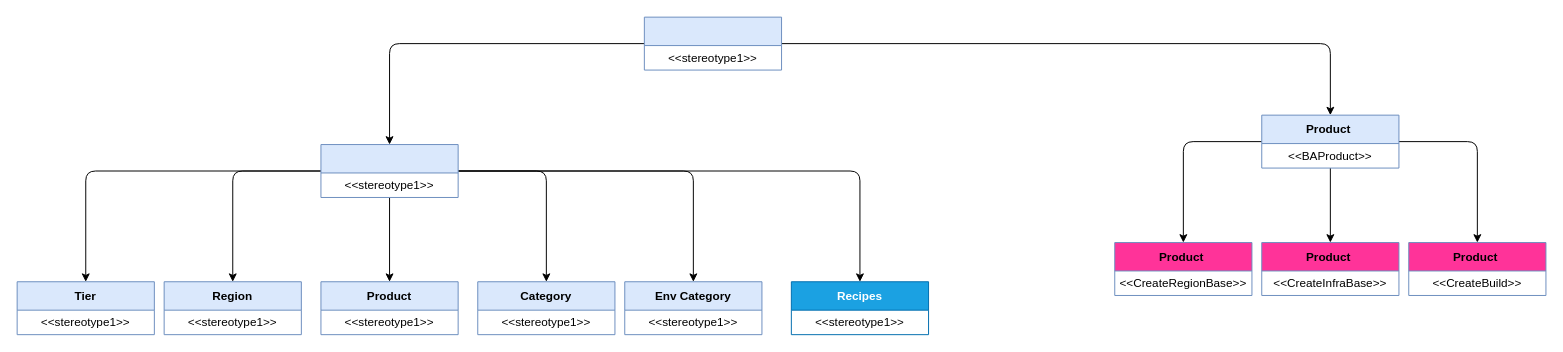
Some shapes in this 1563 by 352 pixel diagram are drawn without their labels. The box of each missing label's shape, as (x1, y1, x2, y2) in pixels:
copApiV1: (643, 16, 782, 70)
Metadata: (320, 144, 458, 197)
